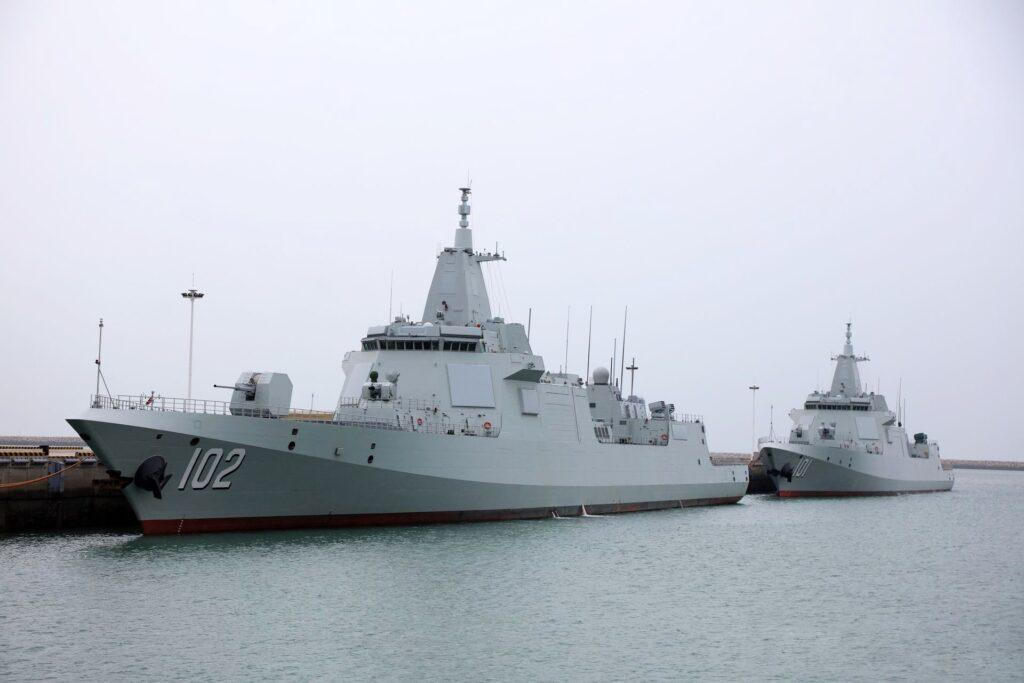Warship: (64, 170, 750, 542), (752, 316, 956, 507)
